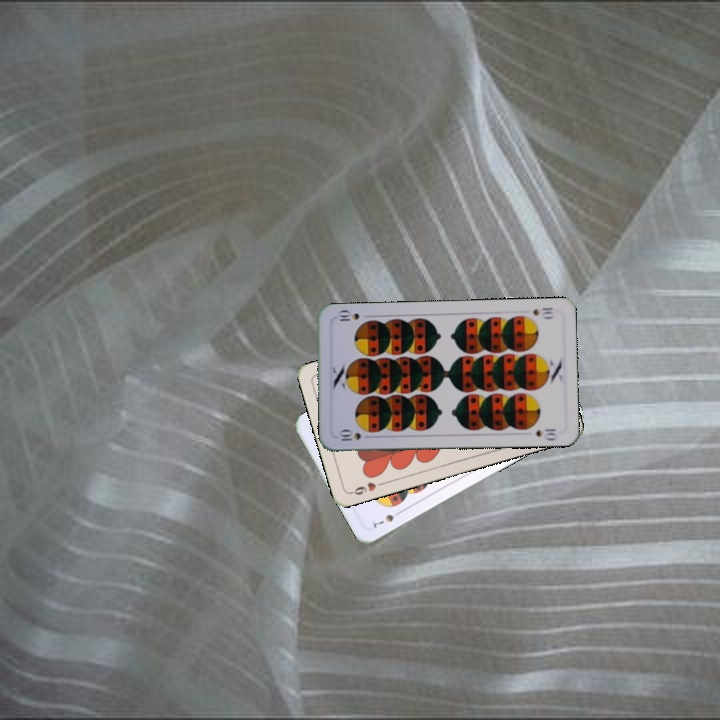H9: (347, 478, 387, 498)
S10: (334, 427, 374, 443), (528, 303, 556, 321)
S7: (369, 506, 405, 530)
